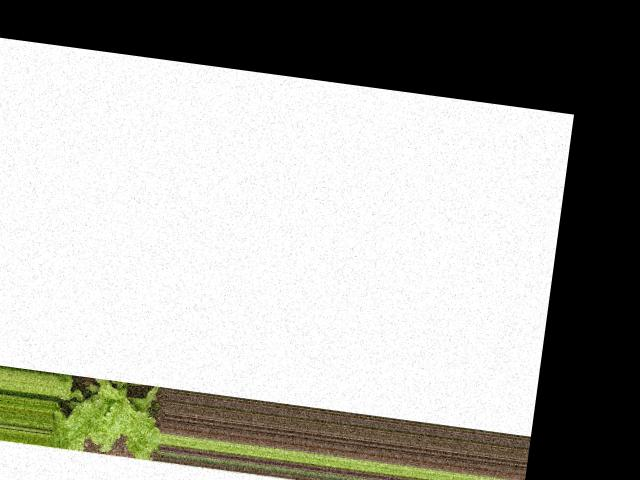lettuce: (48, 368, 168, 458)
